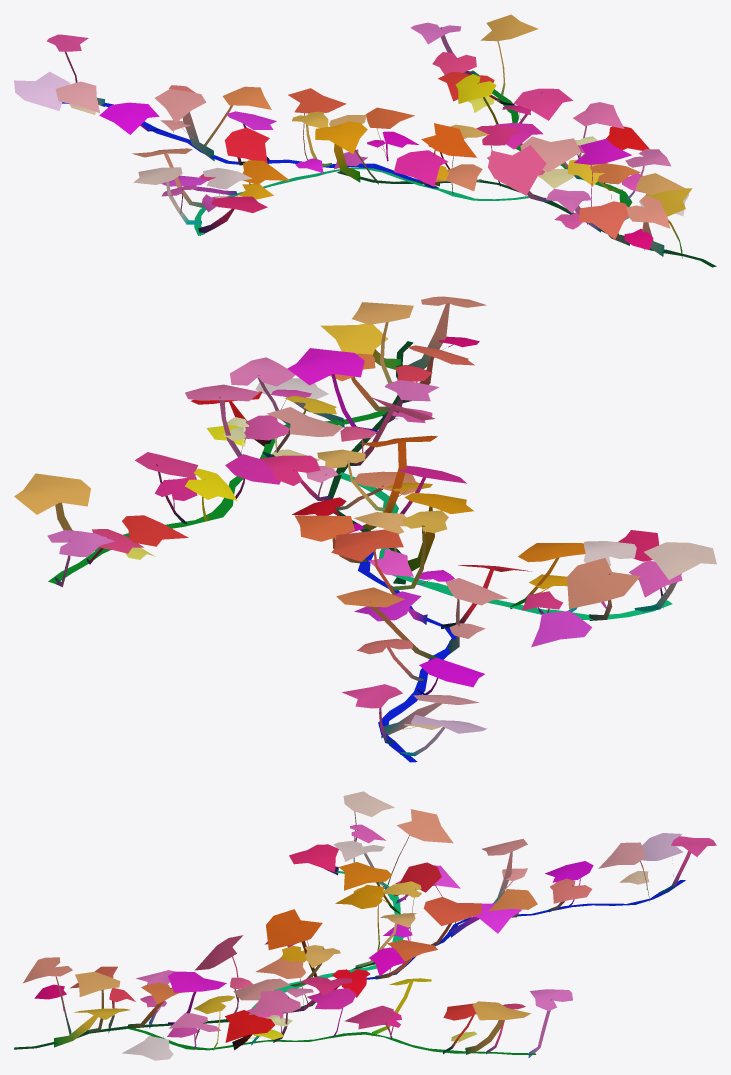
Rendered from English_Ivy_xfcnebhqx_High_xfcnebhqx_VarE_LOD2.fbx.
3 renders of one model, top to bottom at view 1: azimuth 30°, elevation 25°; view 2: azimuth 150°, elevation 25°; view 3: azimuth 270°, elevation 25°, orthographic. The views are drawn at different scales.
Parts seen in each view (by area): view 1: _mo03_VarE_LOD2; view 2: _mo03_VarE_LOD2; view 3: _mo03_VarE_LOD2.
Part boxes in pixels (x1,y1,x2,y2): _mo03_VarE_LOD2: [14, 14, 716, 267]; _mo03_VarE_LOD2: [14, 296, 716, 762]; _mo03_VarE_LOD2: [14, 791, 716, 1060].
Size of the model in its own units: 85.44 by 12.21 by 112.
